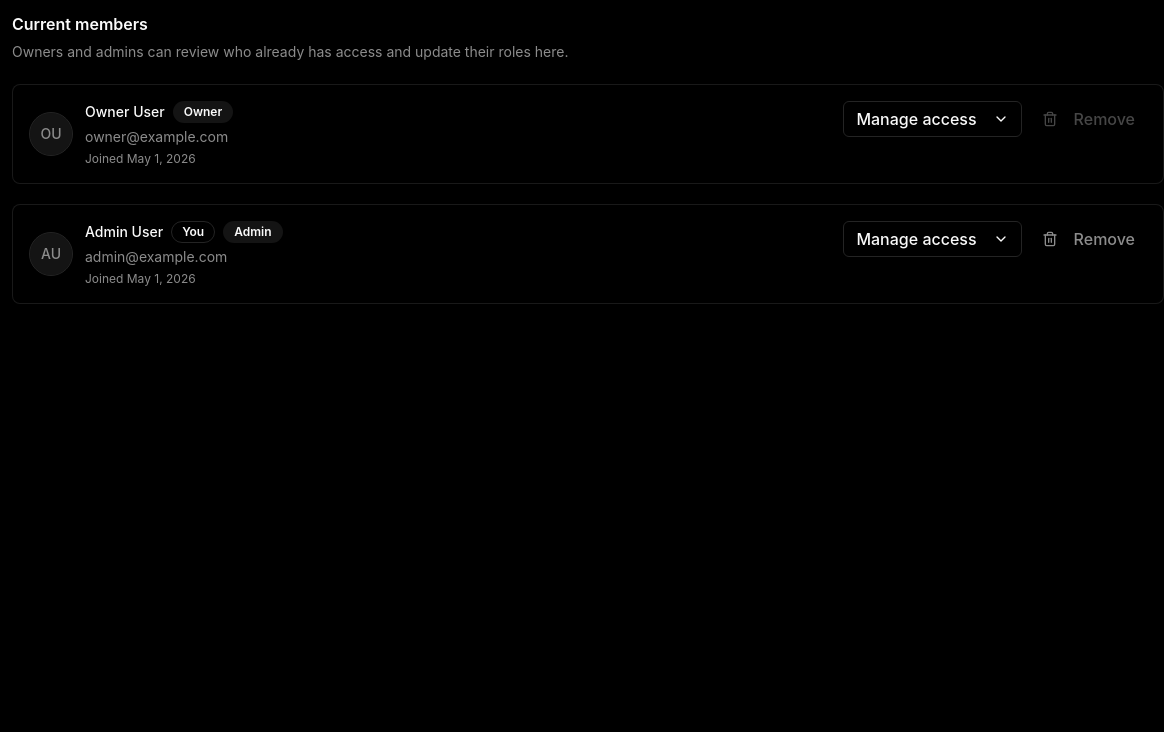
ProjectMembersSettings › prevents admins from changing owner member access
Expected: the text "Owner User" is shown, [85,102,165,122]
Click the button "Manage access" in the row of "owner@example.com" at point(932, 119), box [843,101,1022,137]
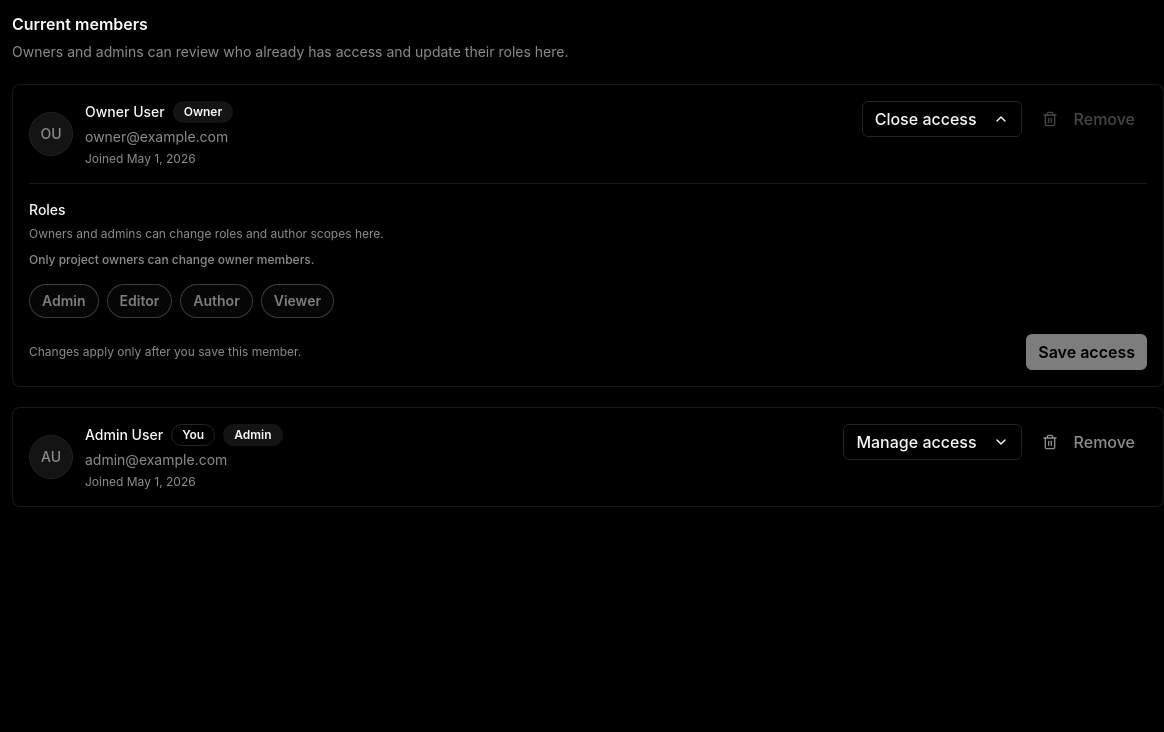
Result: the text "Only project owners can change owner members." is shown at [29,252,314,267]
Result: the button "Save access" is disabled at [1026,334,1147,370]
Result: the button "Admin" is disabled at [29,284,98,318]
